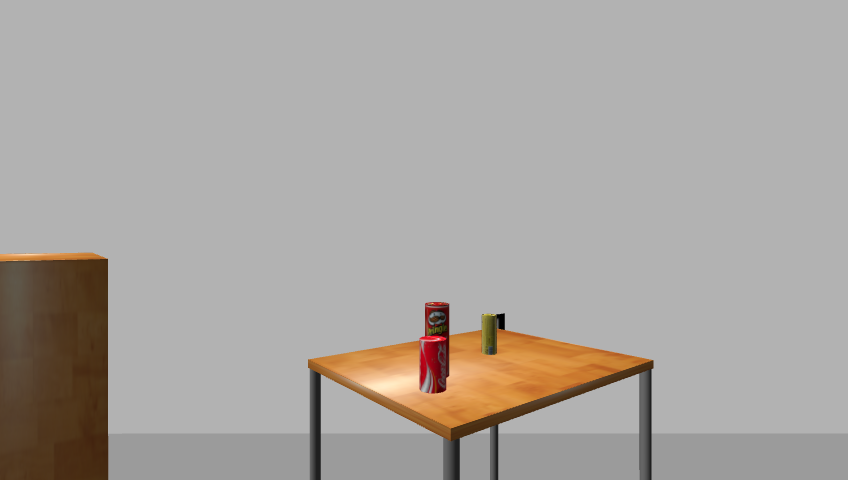aruco marker: (481, 313, 508, 335)
biscuits pack: (481, 314, 497, 357)
bookshelf: (0, 251, 116, 480)
coke can: (418, 336, 450, 394)
dinner table: (299, 328, 662, 479)
pringles can: (423, 301, 450, 379)
